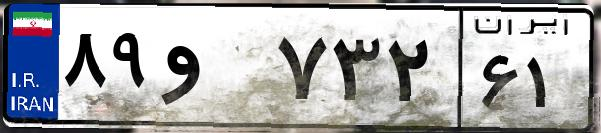1: (525, 38, 570, 115)
2: (385, 28, 445, 110)
3: (330, 28, 385, 110)
6: (475, 38, 525, 113)
7: (270, 28, 330, 110)
8: (57, 26, 110, 100)
9: (110, 28, 158, 98)
و: (158, 20, 270, 120)
